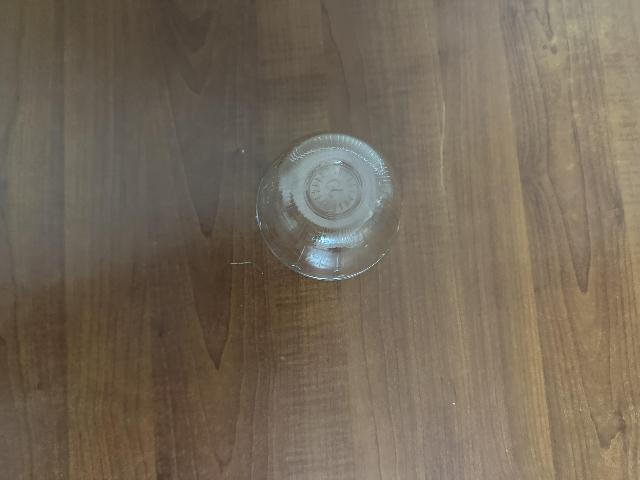Cam: (251, 130, 405, 276)
